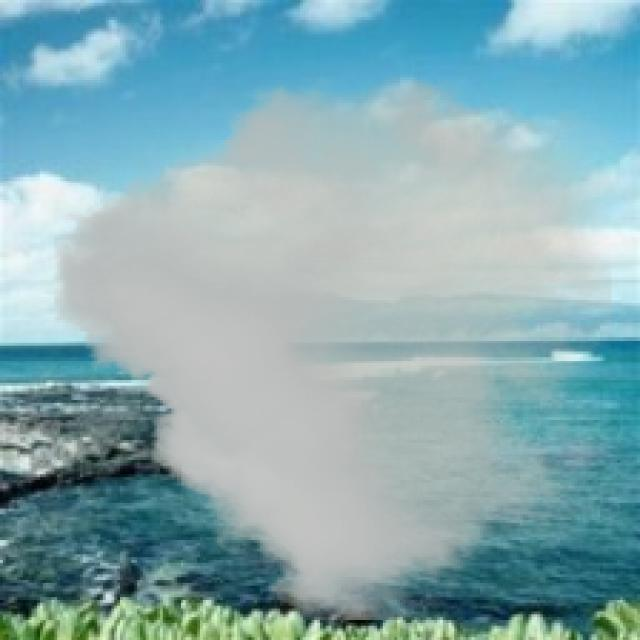smoke: (54, 77, 612, 620)
